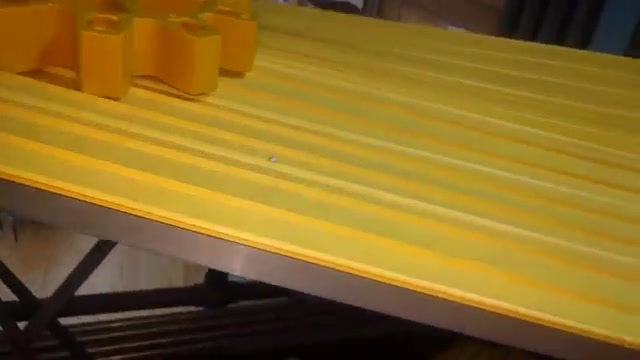gear: (1, 1, 263, 131)
